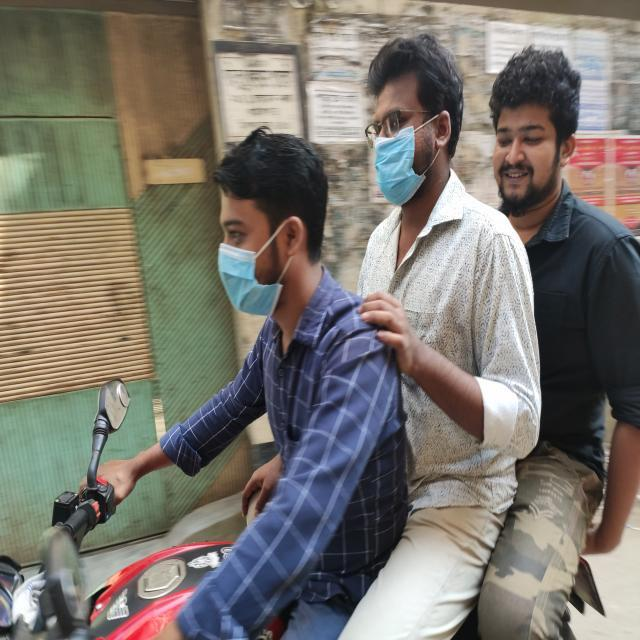No_Helmet: (179, 114, 335, 324), (488, 52, 598, 245), (346, 50, 454, 210)
Overloading: (142, 32, 634, 590)
